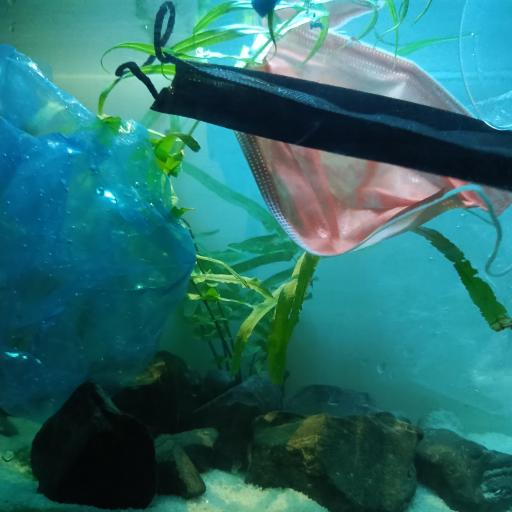mask: (119, 2, 512, 195), (231, 14, 512, 254)
plastic_bag: (0, 46, 198, 430)
plastic_cup: (451, 0, 512, 134)
